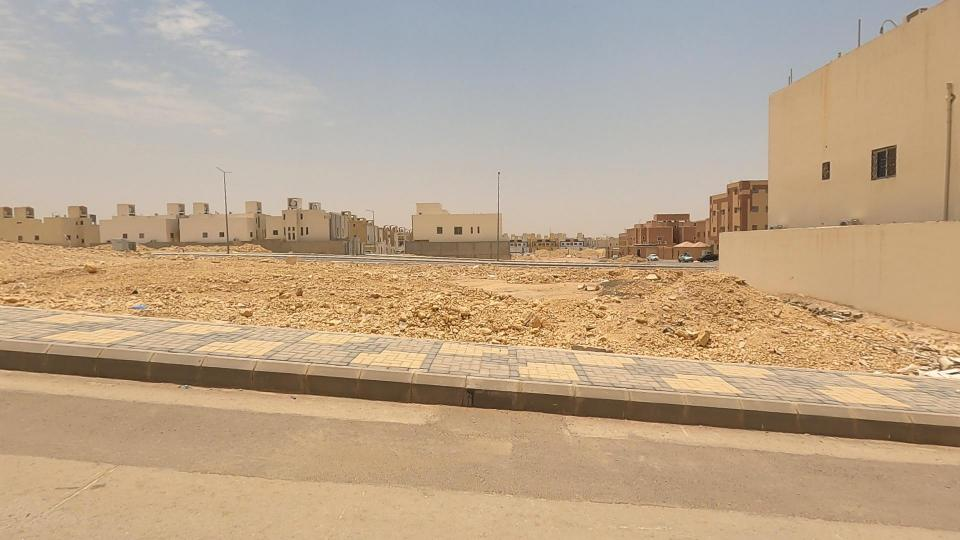GARBAGE: (98, 271, 173, 338)
